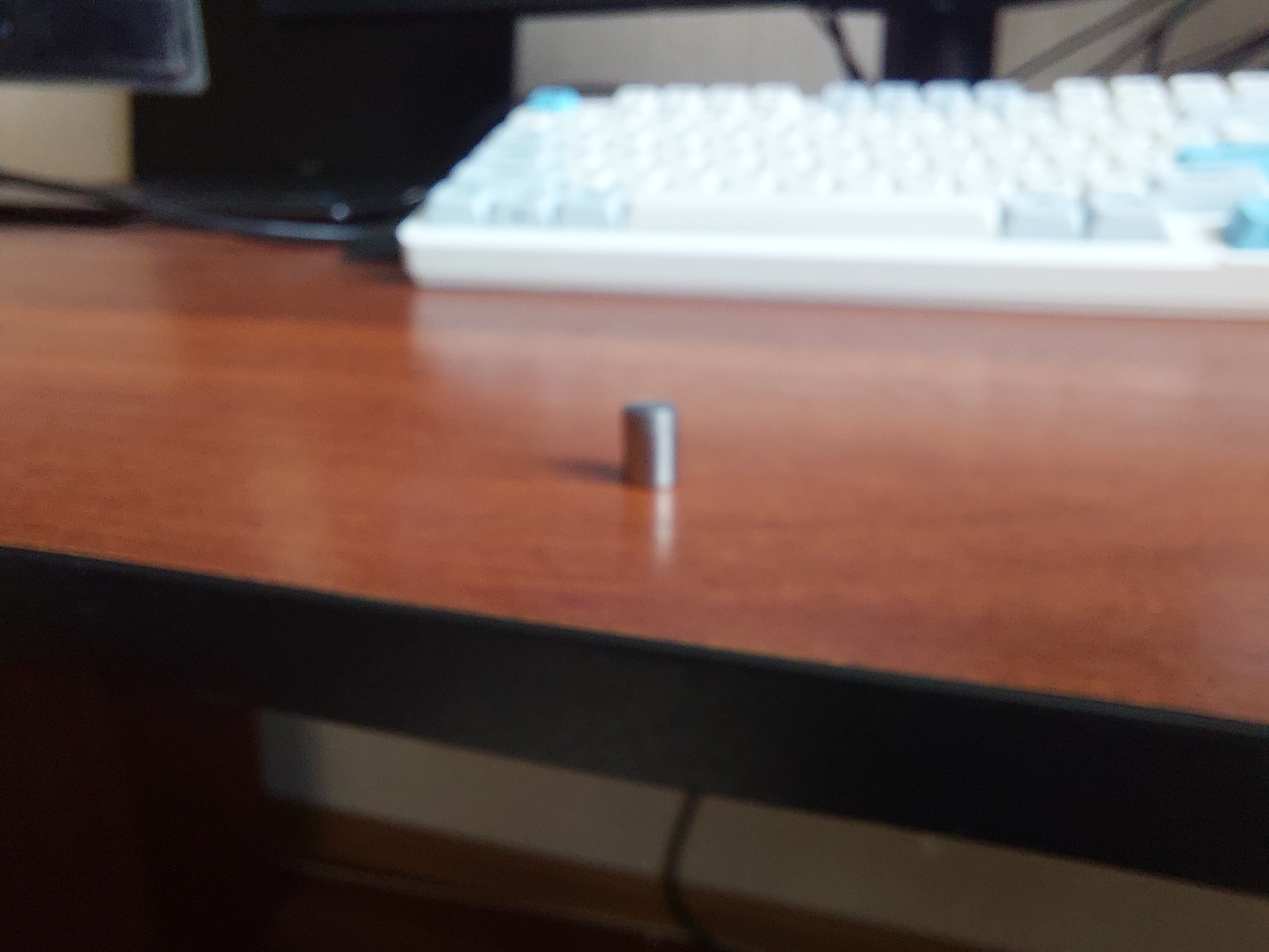tablet: (626, 404, 681, 490)
